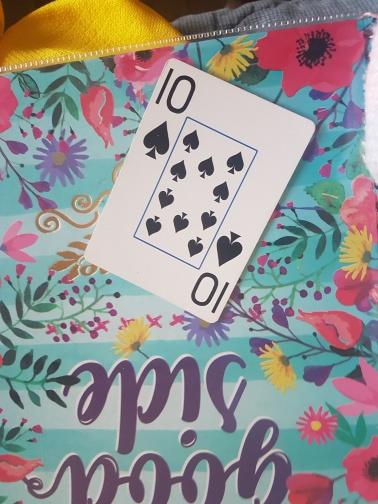ten: (84, 58, 315, 322)
